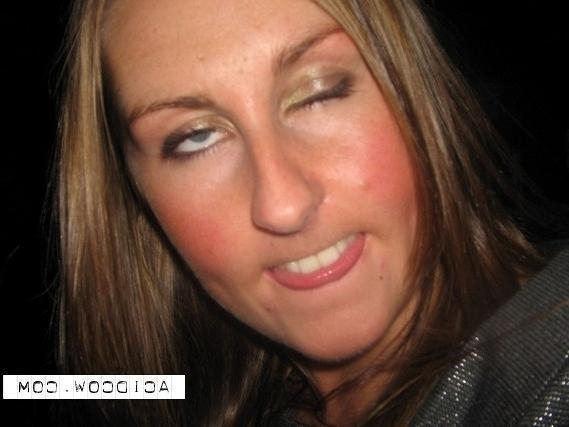Drunk: (106, 0, 427, 356)
